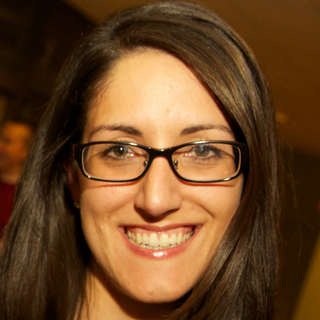eye: (177, 140, 227, 165), (99, 139, 142, 167)
